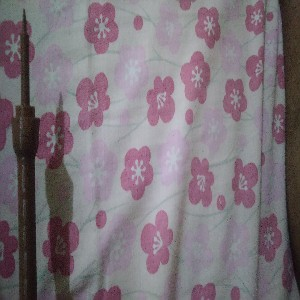solder: (10, 5, 42, 300)
